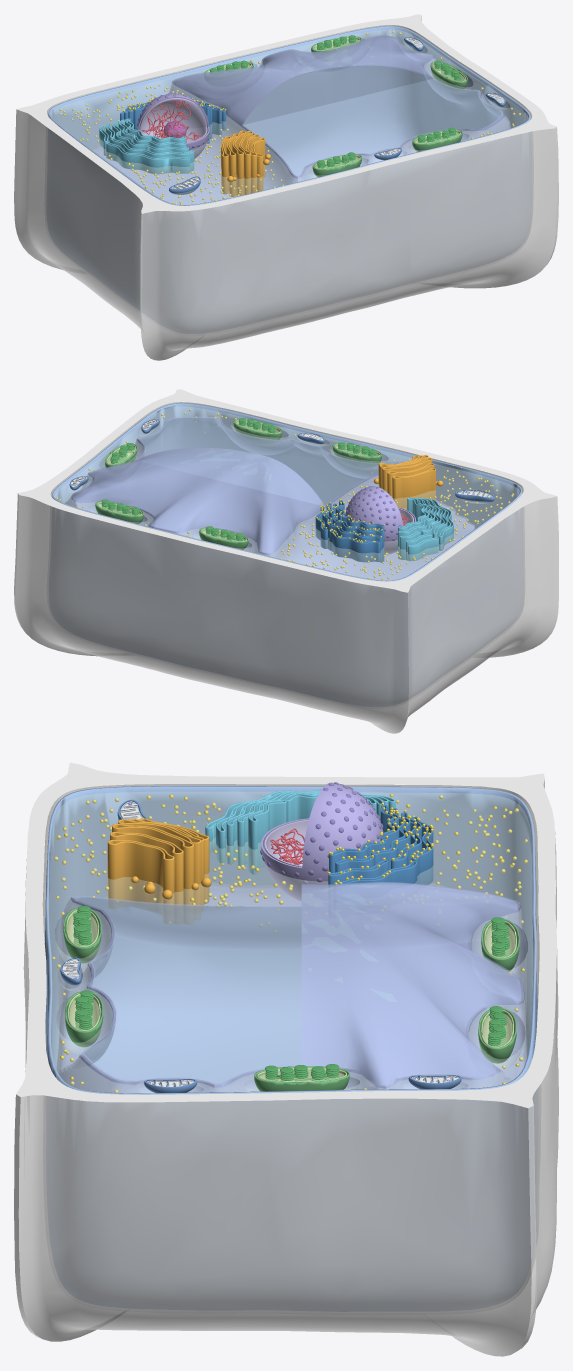
The model's file is plantecelle.glb.
3 views of the same model, one above another, from view 1: azimuth 30°, elevation 25°; view 2: azimuth 150°, elevation 25°; view 3: azimuth 270°, elevation 25° (orthographic). The views are drawn at different scales.
Parts seen in each view (by area): view 1: Cell_Wall, Cell_Membrane, Tonoplast, Vacuole_Sap, Cytoplasm, Smooth_ER_Cisternae, Golgi_Cisternae, Nucleoplasm, Nuclear_Envelope_Inner, Free_Ribosomes, Rough_ER_Cisternae, Chromatin (+2 smaller); view 2: Cell_Wall, Cell_Membrane, Tonoplast, Vacuole_Sap, Cytoplasm, Rough_ER_Cisternae, Smooth_ER_Cisternae, Golgi_Cisternae, Nuclear_Envelope_Outer, Free_Ribosomes, Chloroplast_1_Outer_Membrane, Chloroplast_2_Outer_Membrane (+2 smaller); view 3: Cell_Membrane, Cell_Wall, Tonoplast, Vacuole_Sap, Cytoplasm, Golgi_Cisternae, Nuclear_Envelope_Outer, Rough_ER_Cisternae, Smooth_ER_Cisternae, Free_Ribosomes, Nucleoplasm, Chloroplast_3_Outer_Membrane (+7 smaller).
Boxes of the visible parts, x1,y1,x2,y2 form: Cell_Wall: [14, 14, 558, 360]; Cell_Membrane: [47, 26, 531, 333]; Tonoplast: [93, 35, 510, 204]; Vacuole_Sap: [95, 36, 508, 204]; Cytoplasm: [50, 29, 528, 204]; Smooth_ER_Cisternae: [99, 118, 194, 174]; Golgi_Cisternae: [221, 130, 265, 196]; Nucleoplasm: [141, 100, 205, 142]; Nuclear_Envelope_Inner: [139, 98, 207, 143]; Free_Ribosomes: [59, 31, 520, 204]; Rough_ER_Cisternae: [120, 101, 225, 143]; Chromatin: [142, 100, 204, 142]; Cell_Wall: [14, 389, 558, 733]; Cell_Membrane: [49, 403, 522, 706]; Tonoplast: [65, 416, 474, 580]; Vacuole_Sap: [67, 417, 473, 579]; Cytoplasm: [54, 407, 519, 580]; Rough_ER_Cisternae: [315, 500, 384, 562]; Smooth_ER_Cisternae: [398, 497, 453, 561]; Golgi_Cisternae: [378, 455, 435, 509]; Nuclear_Envelope_Outer: [345, 486, 415, 554]; Free_Ribosomes: [56, 409, 514, 580]; Chloroplast_1_Outer_Membrane: [332, 443, 381, 467]; Chloroplast_2_Outer_Membrane: [233, 419, 282, 443]; Cell_Membrane: [44, 786, 537, 1311]; Cell_Wall: [14, 762, 558, 1356]; Tonoplast: [57, 882, 526, 1092]; Vacuole_Sap: [59, 882, 523, 1092]; Cytoplasm: [48, 792, 533, 1093]; Golgi_Cisternae: [107, 818, 209, 923]; Nuclear_Envelope_Outer: [261, 782, 383, 901]; Rough_ER_Cisternae: [328, 805, 433, 886]; Smooth_ER_Cisternae: [205, 789, 395, 874]; Free_Ribosomes: [52, 794, 527, 1092]; Nucleoplasm: [267, 821, 307, 865]; Chloroplast_3_Outer_Membrane: [254, 1066, 349, 1091].
Size of the model in its own units: 21.43 by 9.93 by 14.13.
